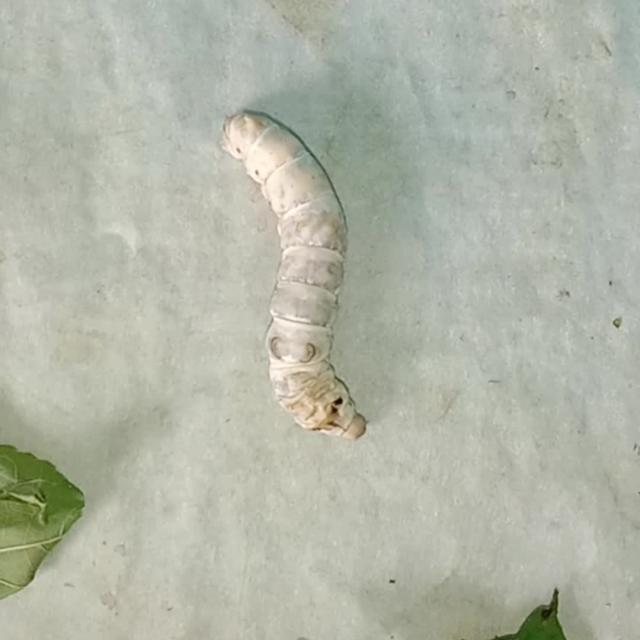Grasserie: (206, 83, 399, 460)
